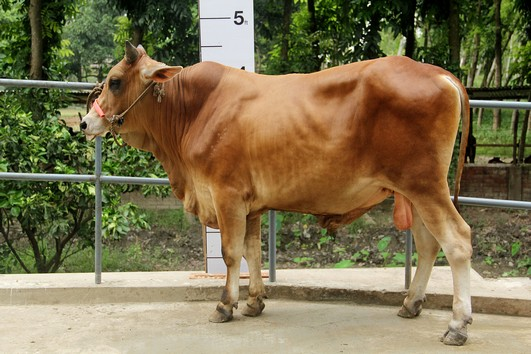cow: (77, 40, 476, 342)
